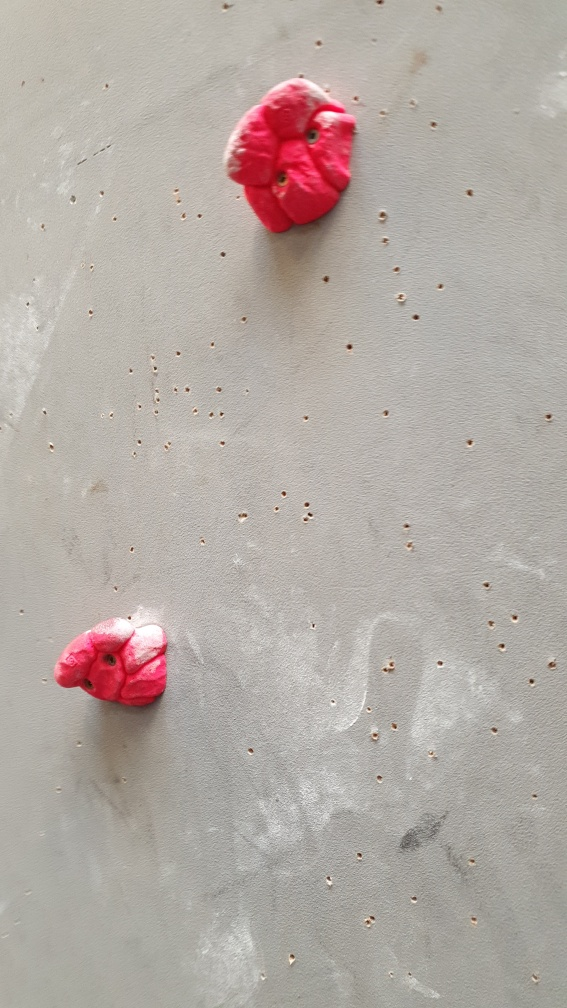Jug: (220, 74, 357, 240), (59, 619, 169, 717)
